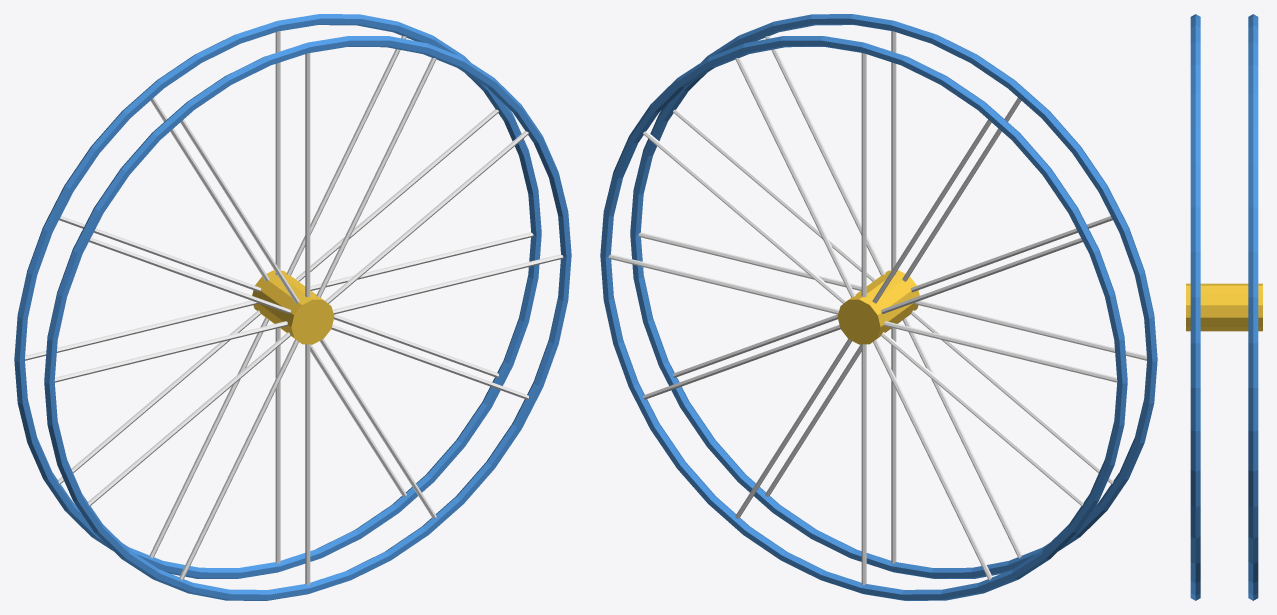
Rendered from ferris_ring.glb.
The picture shows the model from 3 angles, left to right: view 1: azimuth 30°, elevation 25°; view 2: azimuth 150°, elevation 25°; view 3: azimuth 270°, elevation 25°; orthographic projection. The views are drawn at different scales.
Visible parts, largest first — view 1: ferris_ring; view 2: ferris_ring; view 3: ferris_ring.
Boxes of the visible parts, bbox=[...] form: ferris_ring: bbox=[14, 14, 571, 600]; ferris_ring: bbox=[600, 14, 1157, 600]; ferris_ring: bbox=[1186, 14, 1262, 600].
Size of the model in its own units: 12.24 by 12.24 by 1.6.
